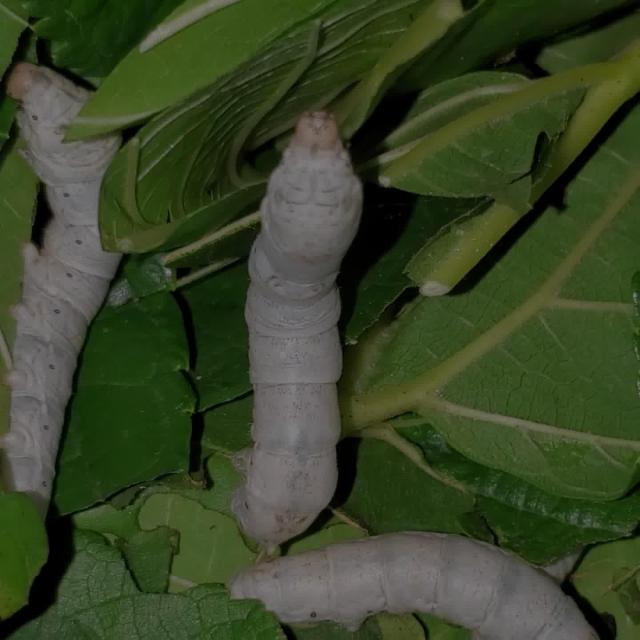Healthy: (212, 98, 380, 532)
